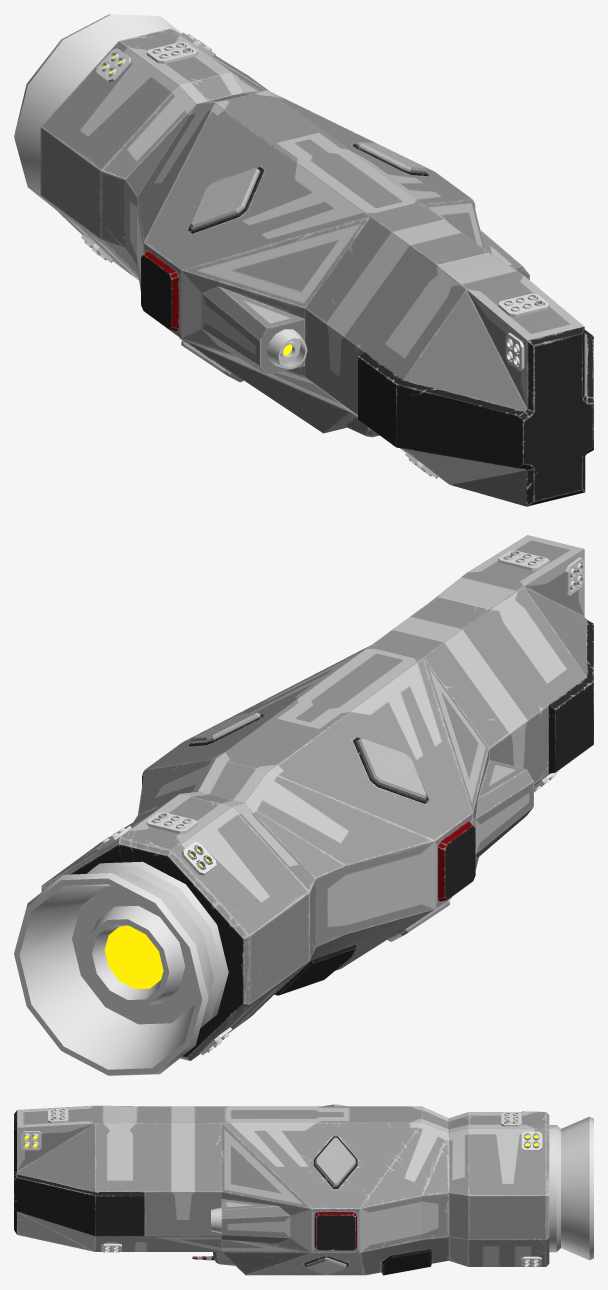
File: CV_Pskella_Mesh.fbx
The picture shows the model from 3 angles, top to bottom: view 1: azimuth 30°, elevation 25°; view 2: azimuth 150°, elevation 25°; view 3: azimuth 270°, elevation 25°; orthographic projection. The views are drawn at different scales.
Parts seen in each view (by area): view 1: CV_Hull, Thrusters LOD0; view 2: CV_Hull, Thrusters LOD0, Thrusters Emmissions; view 3: CV_Hull, Thrusters LOD0.
Part boxes in pixels (<box>): CV_Hull: <box>40,28,593,506</box>; Thrusters LOD0: <box>14,14,549,478</box>; CV_Hull: <box>41,535,593,1060</box>; Thrusters LOD0: <box>14,550,584,1075</box>; Thrusters Emmissions: <box>104,848,209,989</box>; CV_Hull: <box>14,1104,549,1275</box>; Thrusters LOD0: <box>21,1108,593,1266</box>.
Size of what is drawn, in the model's own units: 364 by 935 by 266.
